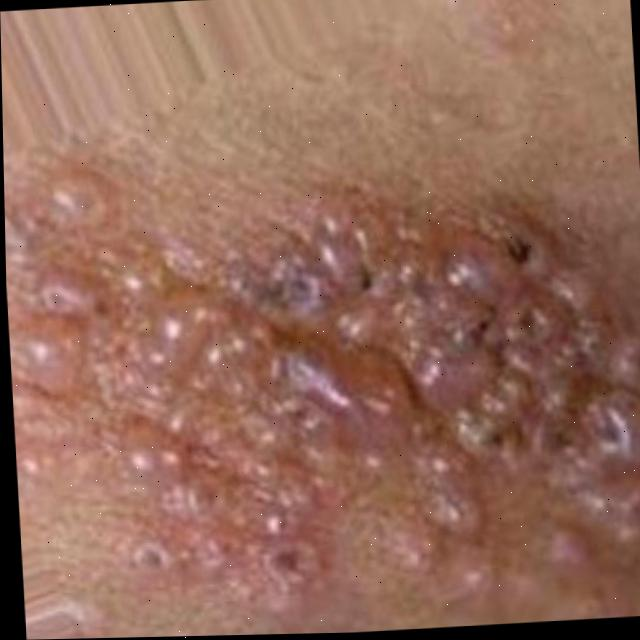Shingles: (33, 161, 640, 619)
